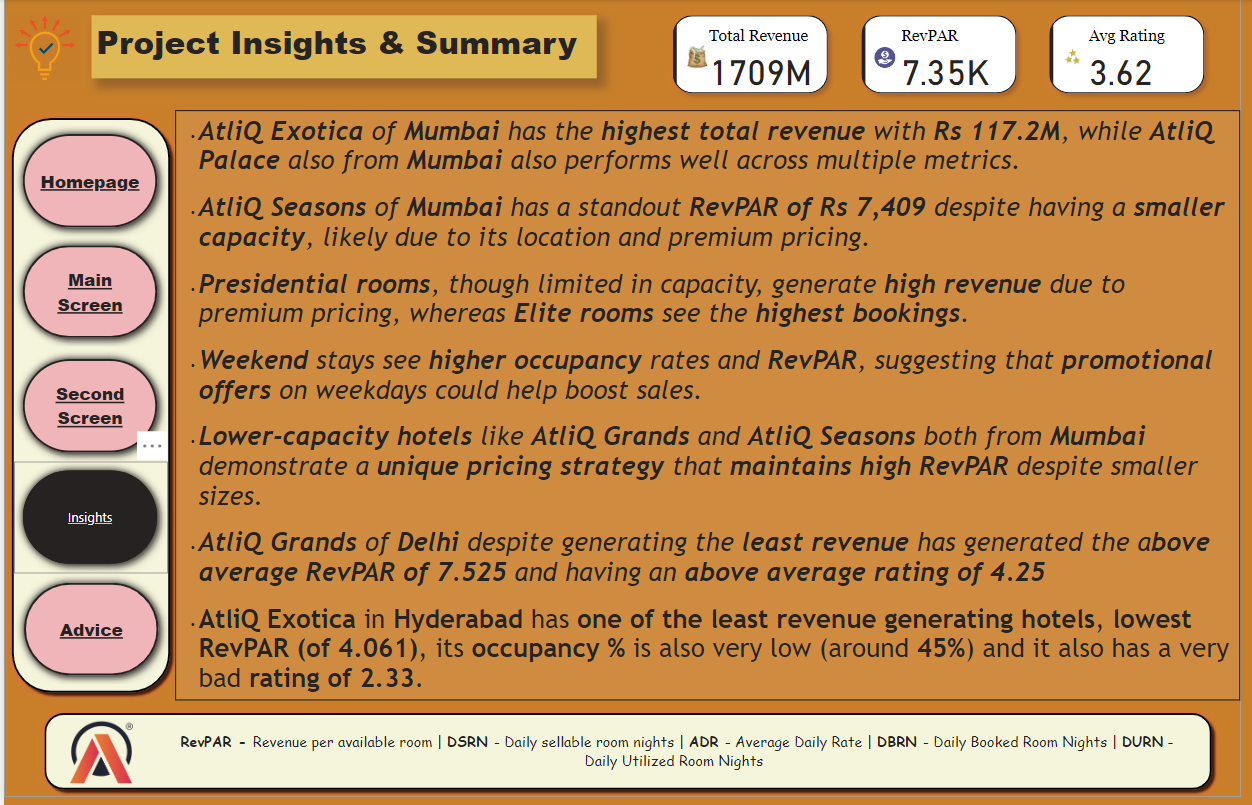

This screenshot's page, from the dashboard's own definition file:
{"tool":"powerbi","page":{"name":"Insights","canvas":[1280,830],"ordinal":3},"visuals":[{"type":"cardVisual","fields":{"Data":["Key Measures.Total Revenue","Key Measures.RevPAR","Key Measures.Avg Rating"]},"box":[670.1,0,579.6,114.9],"z":0,"group":"g1"},{"type":"textbox","box":[89.2,16.9,518.6,65.1],"z":1000,"group":"g1"},{"type":"image","box":[0,7.2,84.4,84.4],"z":2000,"group":"g1"},{"type":"textbox","box":[176.1,114.6,1092.7,605.4],"z":3000,"group":"g1"},{"type":"shape","box":[0,114.3,178.6,605.7],"z":4000,"group":"g1"},{"type":"pageNavigator","box":[10.9,129,156.8,114.6],"z":5000,"group":"g1"},{"type":"pageNavigator","box":[10.9,243.6,156.8,113.4],"z":6000,"group":"g1"},{"type":"pageNavigator","box":[10.9,360.6,156.8,114.6],"z":7000,"group":"g1"},{"type":"pageNavigator","box":[10.9,475.2,156.8,114.6],"z":8000,"group":"g1"},{"type":"group","id":"g1","title":"Group 1","box":[0,0,1268.7,820],"z":8005},{"type":"pageNavigator","box":[11,590.6,156.5,113.7],"z":9000,"group":"g1"},{"type":"shape","box":[33,725.2,1214.2,94.8],"z":10000,"group":"g1"},{"type":"image","box":[59.1,734.8,83.8,75.5],"z":11000,"group":"g1"},{"type":"textbox","box":[155.2,747.2,1064.5,63.2],"z":12000,"group":"g1"}]}

Visuals, with their boxes in screenshot pixels (x1, y1, x2, y2), scaled from the page's 1280x830 canvas onto the 1252x805 screenshot:
cardVisual - Key Measures.Total Revenue x Key Measures.RevPAR: [655,0,1222,111]
textbox: [87,16,595,80]
image: [0,7,83,89]
textbox: [172,111,1241,698]
shape: [0,111,175,698]
pageNavigator: [11,125,164,236]
pageNavigator: [11,236,164,346]
pageNavigator: [11,350,164,461]
pageNavigator: [11,461,164,572]
"Group 1" group: [0,0,1241,795]
pageNavigator: [11,573,164,683]
shape: [32,703,1220,795]
image: [58,713,140,786]
textbox: [152,725,1193,786]
